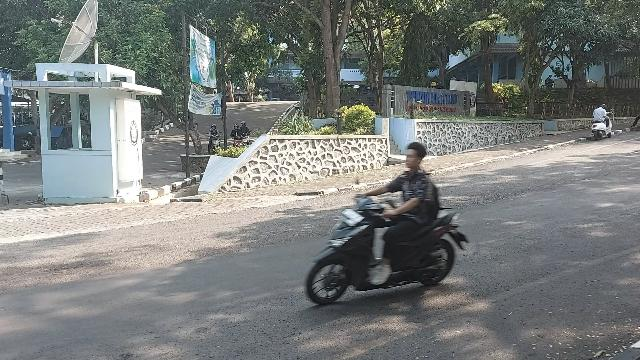motor: (306, 181, 470, 306)
non-helm: (407, 143, 427, 169)
